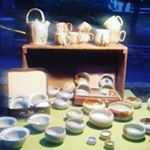cups: (103, 14, 126, 31), (107, 30, 128, 47), (54, 21, 73, 34)
